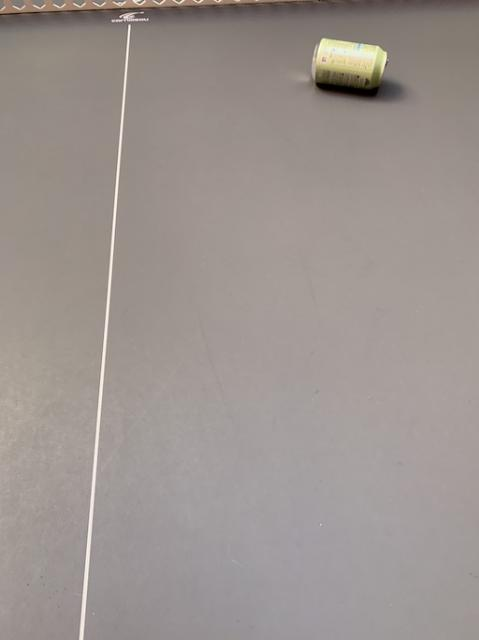metal: (312, 37, 386, 88)
